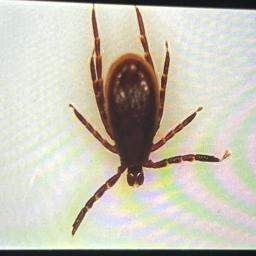Ixodes scapularis: (61, 15, 217, 227)
